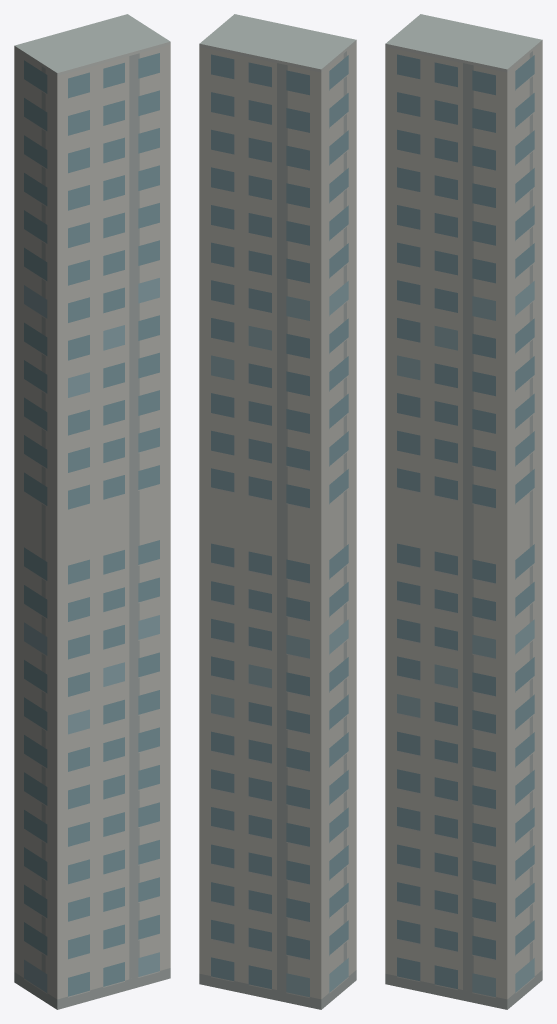
Rendered from survey-upis-32630614.glb.
3 views of the same model, side by side, from view 1: azimuth 30°, elevation 25°; view 2: azimuth 150°, elevation 25°; view 3: azimuth 330°, elevation 25° (orthographic).
Parts seen in each view (by area): view 1: survey-upis-32630614.tmp; view 2: survey-upis-32630614.tmp; view 3: survey-upis-32630614.tmp.
Part boxes in pixels (x1=…): survey-upis-32630614.tmp: x1=14, y1=14, x2=170, y2=1009; survey-upis-32630614.tmp: x1=199, y1=14, x2=356, y2=1009; survey-upis-32630614.tmp: x1=385, y1=14, x2=542, y2=1009.
Bounding box in the file's own units: 10.35 × 76.25 × 6.37.
